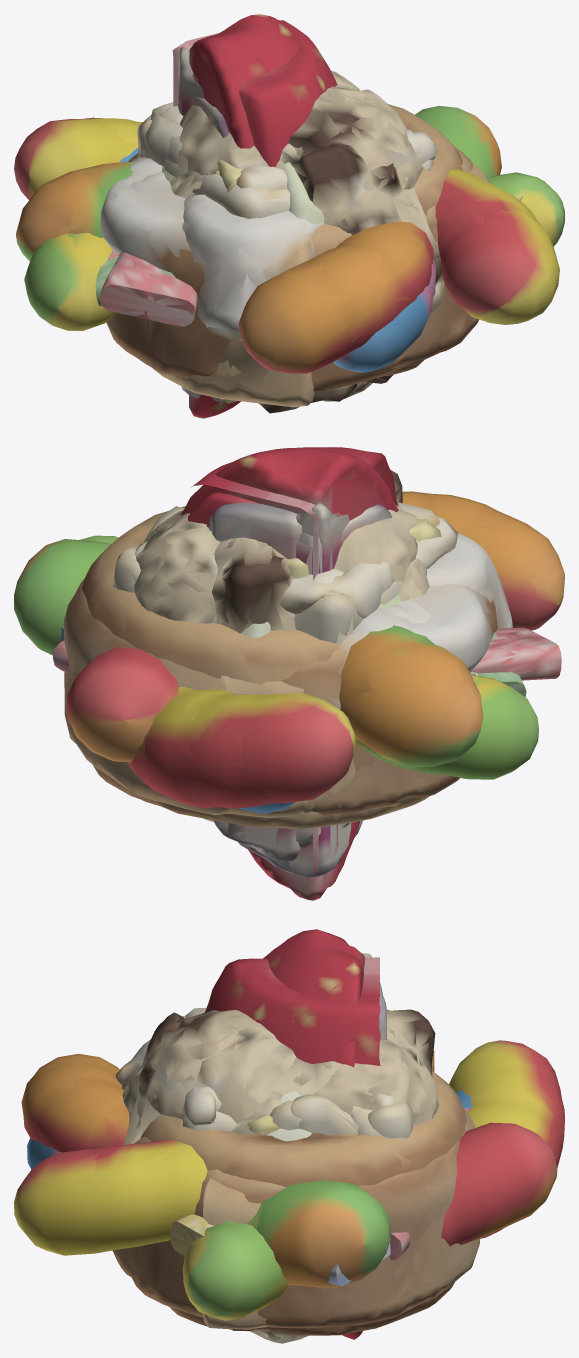
File: toppings-v2.glb
3 renders of one model, top to bottom at view 1: azimuth 30°, elevation 25°; view 2: azimuth 150°, elevation 25°; view 3: azimuth 270°, elevation 25°, orthographic. The views are drawn at different scales.
Parts seen in each view (by area): view 1: worms_1, worms_4, cinnamon_2, cinnamon_1, worms_3, worms_0, cinnamon_1_lod, strawberry_5, dough_1, strawberry_7, dough_3, worms_2 (+20 smaller); view 2: worms_1, worms_0, cinnamon_1, worms_4, cinnamon_2, worms_0_lod, strawberry_5, worms_3, cinnamon_3, dough_3, strawberry_5_lod, krispies_2 (+24 smaller); view 3: worms_1, worms_4, cinnamon_3, cinnamon_1, dough_3, worms_0, strawberry_7, worms_3, dough_3_lod, strawberry_5, cinnamon_3_lod, worms_1_lod (+19 smaller).
Boxes of the visible parts, x1,y1,x2,y2 form: worms_1: (14, 117, 559, 324); worms_4: (238, 221, 433, 373); cinnamon_2: (100, 153, 489, 391); cinnamon_1: (133, 104, 462, 407); worms_3: (24, 172, 564, 330); worms_0: (16, 105, 501, 261); cinnamon_1_lod: (147, 107, 454, 406); strawberry_5: (189, 14, 298, 418); dough_1: (193, 130, 444, 312); strawberry_7: (172, 20, 337, 167); dough_3: (258, 70, 422, 413); worms_2: (333, 259, 435, 372); worms_1: (128, 687, 355, 808); worms_0: (14, 539, 483, 767); cinnamon_1: (82, 511, 512, 828); worms_4: (66, 491, 564, 762); cinnamon_2: (281, 584, 497, 815); worms_0_lod: (24, 540, 481, 761); strawberry_5: (180, 447, 398, 900); worms_3: (80, 535, 538, 779); cinnamon_3: (63, 577, 410, 817); dough_3: (135, 511, 218, 623); strawberry_5_lod: (184, 447, 398, 898); krispies_2: (113, 546, 383, 618); worms_1: (14, 1040, 564, 1255); worms_4: (21, 1053, 557, 1245); cinnamon_3: (126, 1110, 479, 1328); cinnamon_1: (115, 1039, 466, 1335); dough_3: (147, 1010, 438, 1124); worms_0: (256, 1009, 434, 1287); strawberry_7: (207, 957, 380, 1065); worms_3: (182, 1222, 288, 1320); dough_3_lod: (147, 1009, 434, 1124); strawberry_5: (263, 929, 365, 1339); cinnamon_3_lod: (126, 1179, 479, 1327); worms_1_lod: (17, 1050, 564, 1253).
Size of the model in its own units: 0.0369 by 0.029 by 0.0363.
